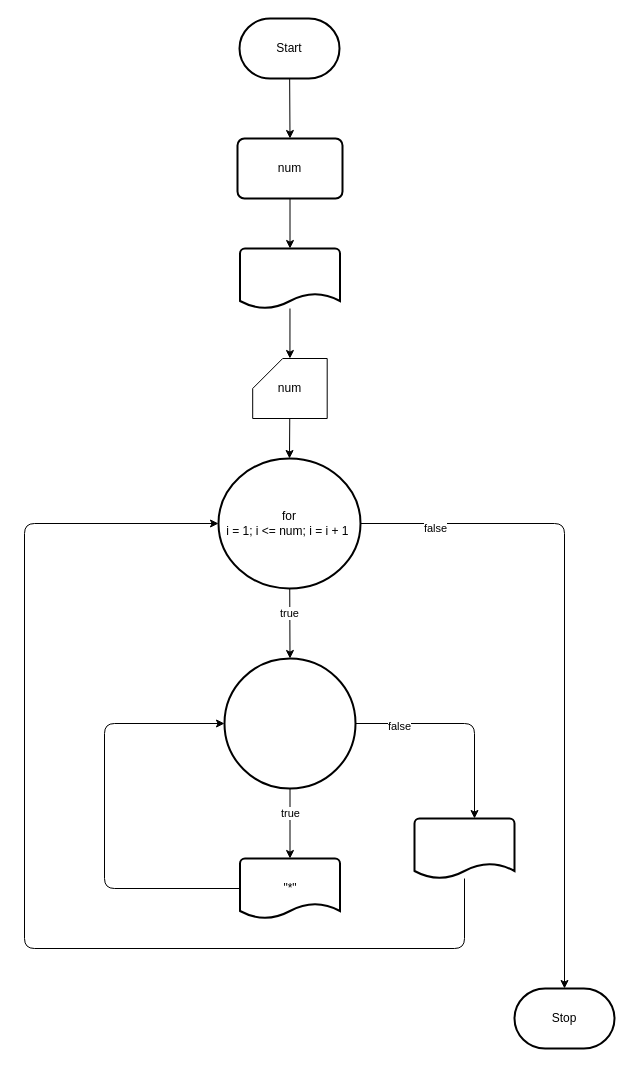
The diagram is 633 pixels wide and 1066 high, and some of its shapes have lost their labels. Each missing label, with the centre of its shape:
"\n": (x=464, y=848)
"Enter num:": (x=289, y=278)
for j = 1; j <= i; j = j + 1: (x=289, y=723)
